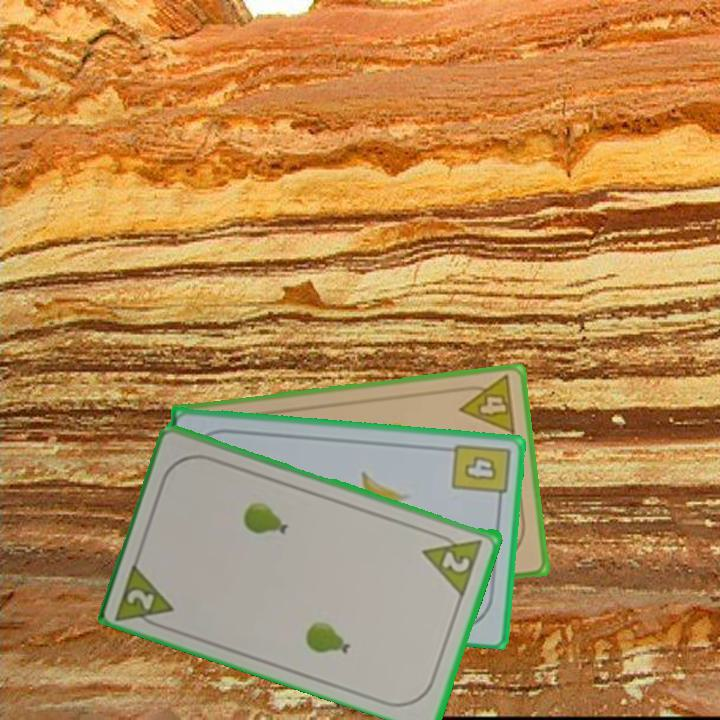2p: (112, 557, 178, 633), (420, 526, 486, 597)
4b: (448, 439, 513, 507)
4p: (454, 372, 518, 437)
